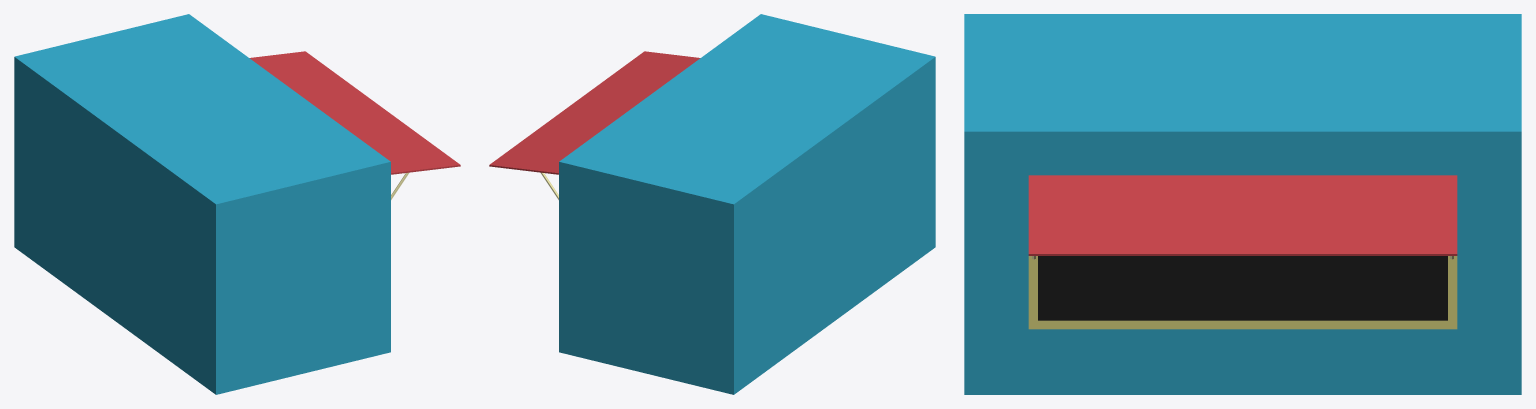
Rendered from FastFoodStall.fbx.
The picture shows the model from 3 angles, left to right: view 1: azimuth 30°, elevation 25°; view 2: azimuth 150°, elevation 25°; view 3: azimuth 270°, elevation 25°; orthographic projection. The views are drawn at different scales.
Parts seen in each view (by area): view 1: FastFoodStall; view 2: FastFoodStall; view 3: FastFoodStall.
Part boxes in pixels (box(x1,y1,x2,y2)): FastFoodStall: box(14, 14, 460, 394); FastFoodStall: box(489, 14, 935, 394); FastFoodStall: box(964, 14, 1521, 394).
Bounding box in the file's own units: 478 × 325 × 624.
